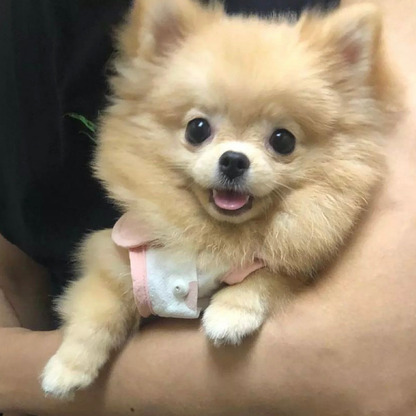Pomeranian: (84, 15, 389, 321)
